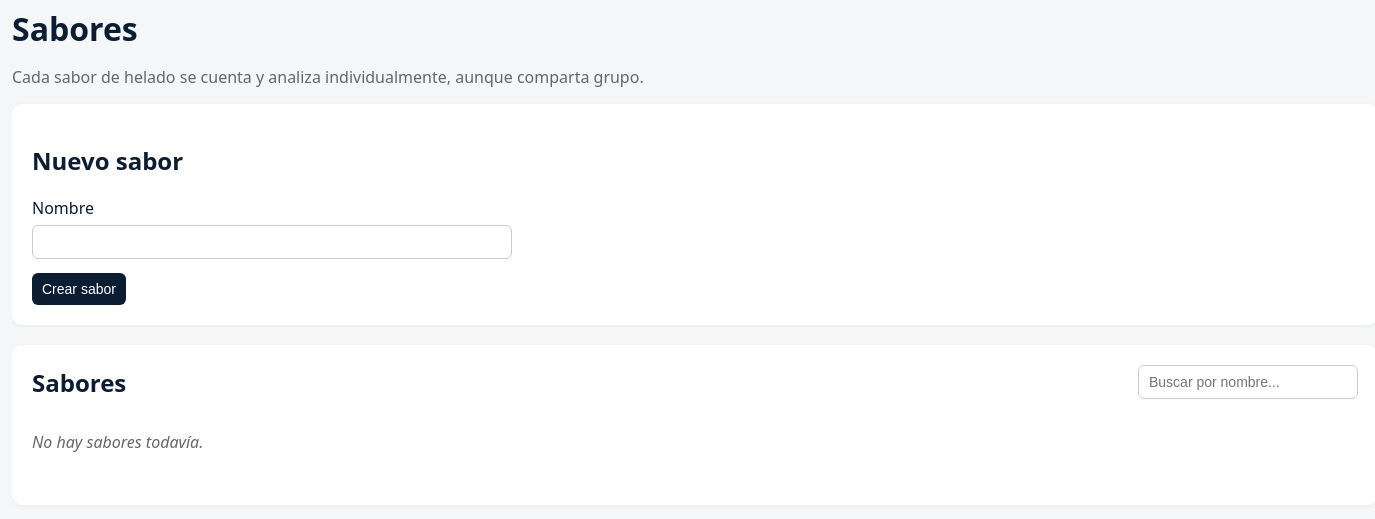
Test: FlavorsPage › muestra el error del backend si la creación falla
expect the text "No hay sabores todavía." is shown: met, box [32,431,203,453]
Type "Limón" into the field labelled "Nombre" at (272, 242), box [32,225,512,259]
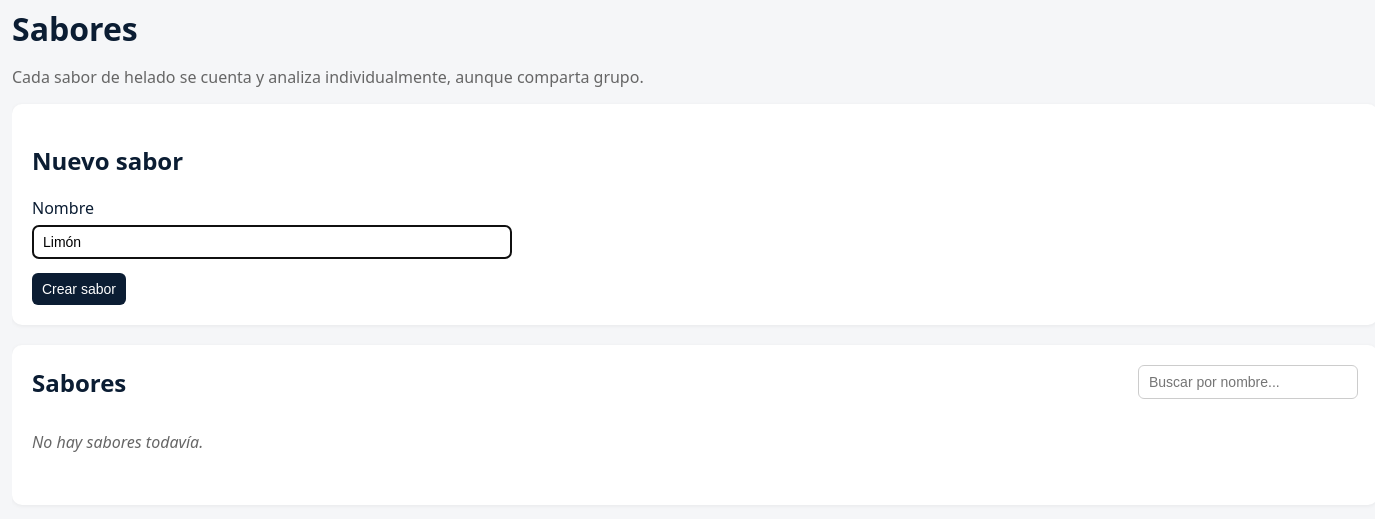
Click the button "Crear sabor" at (79, 289), box [32,273,126,305]
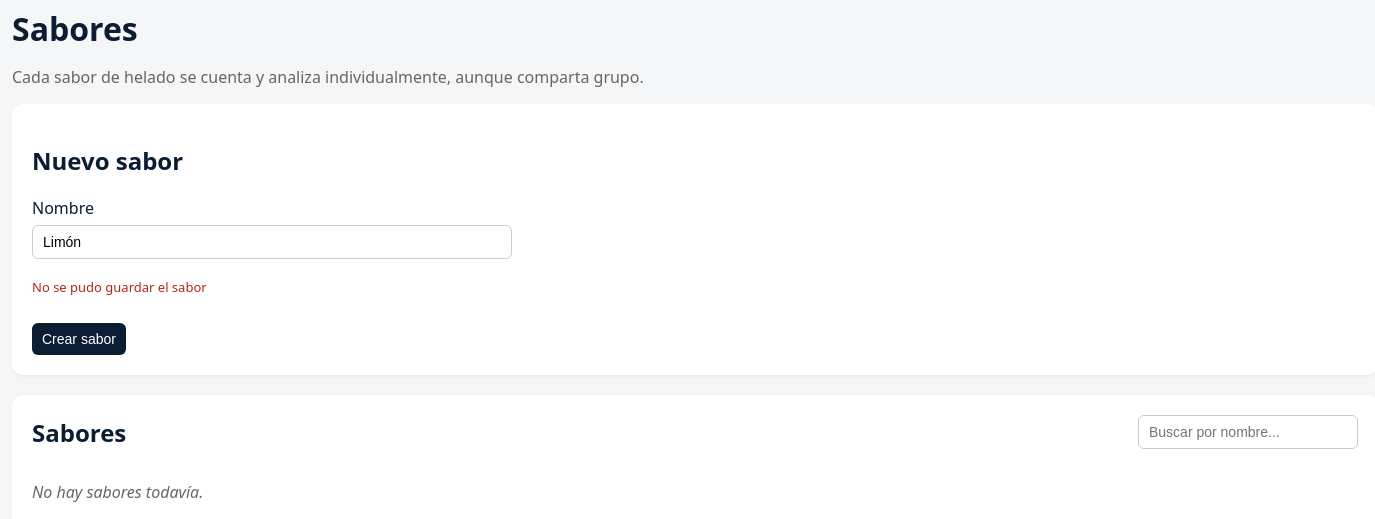
expect the text "No se pudo guardar el sabor" is shown: met, box [32,278,207,296]
